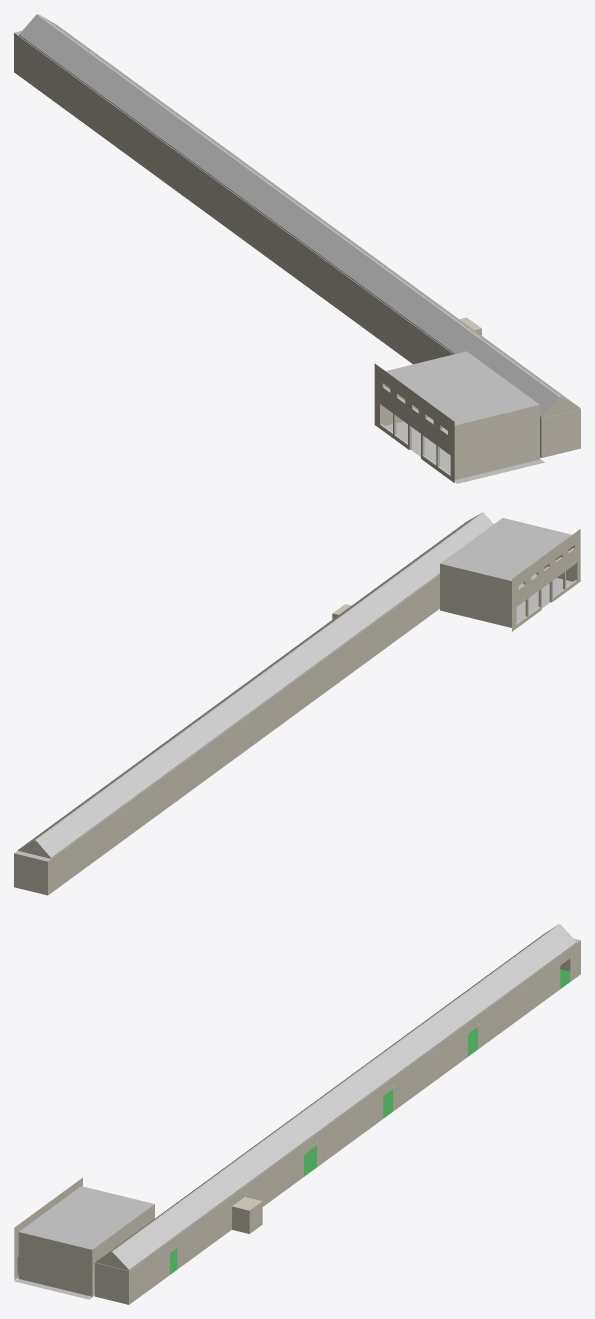
File: FrontEntrance.fbx
The picture shows the model from 3 angles, top to bottom: view 1: azimuth 30°, elevation 25°; view 2: azimuth 150°, elevation 25°; view 3: azimuth 330°, elevation 25°; orthographic projection. The views are drawn at different scales.
Parts seen in each view (by area): view 1: Bake; view 2: Bake; view 3: Bake.
Boxes of the visible parts, box(x1,y1,x2,y2) form: Bake: box(14, 14, 580, 483); Bake: box(14, 512, 580, 895); Bake: box(14, 924, 580, 1304).
Bounding box in the file's own units: 1130 × 442 × 6911.
